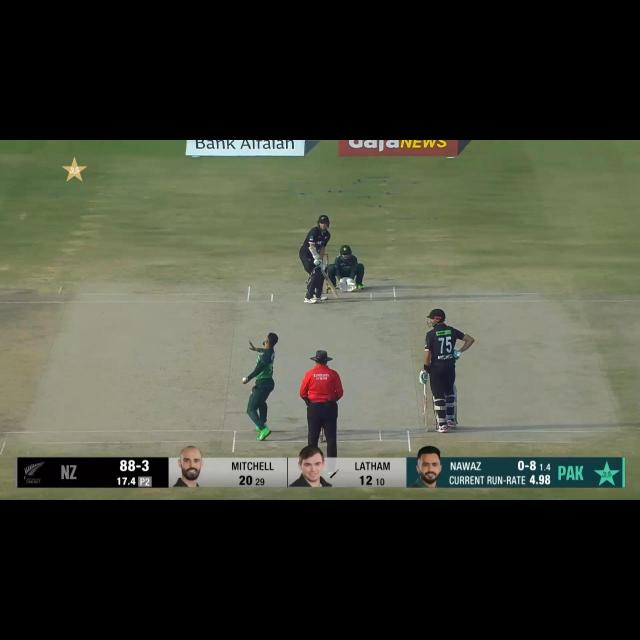bat: (320, 270, 340, 299), (420, 393, 432, 432)
toe: (421, 419, 431, 432), (332, 289, 340, 298)
